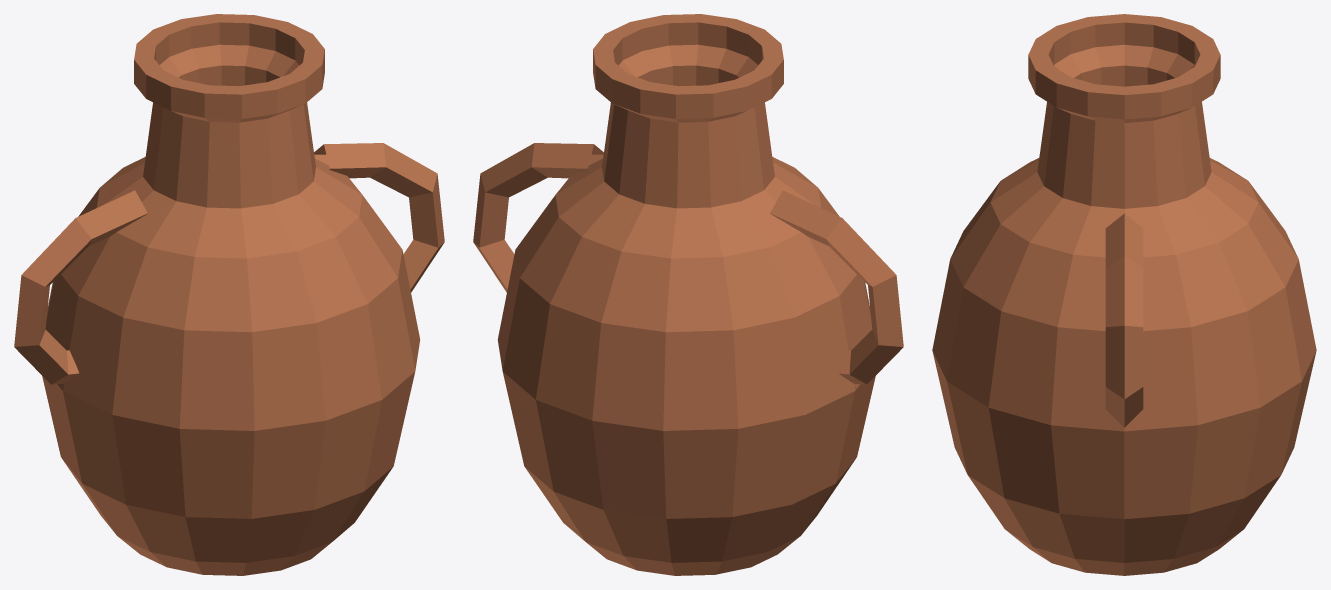
File: LowPolyVase.fbx
3 renders of one model, left to right at view 1: azimuth 30°, elevation 25°; view 2: azimuth 150°, elevation 25°; view 3: azimuth 270°, elevation 25°, orthographic.
Visible parts, largest first — view 1: LowPolyVase_Body, LowPolyVase_Handle_R, LowPolyVase_Handle_L; view 2: LowPolyVase_Body, LowPolyVase_Handle_R, LowPolyVase_Handle_L; view 3: LowPolyVase_Body, LowPolyVase_Handle_L.
Part boxes in pixels (box(x1,y1,x2,y2)): LowPolyVase_Body: box(42, 14, 420, 575); LowPolyVase_Handle_R: box(14, 190, 147, 384); LowPolyVase_Handle_L: box(314, 143, 444, 292); LowPolyVase_Body: box(497, 14, 875, 575); LowPolyVase_Handle_R: box(770, 190, 903, 384); LowPolyVase_Handle_L: box(473, 143, 603, 292); LowPolyVase_Body: box(932, 14, 1316, 575); LowPolyVase_Handle_L: box(1105, 213, 1143, 427).
Bounding box in the file's own units: 222 × 236 × 172.
